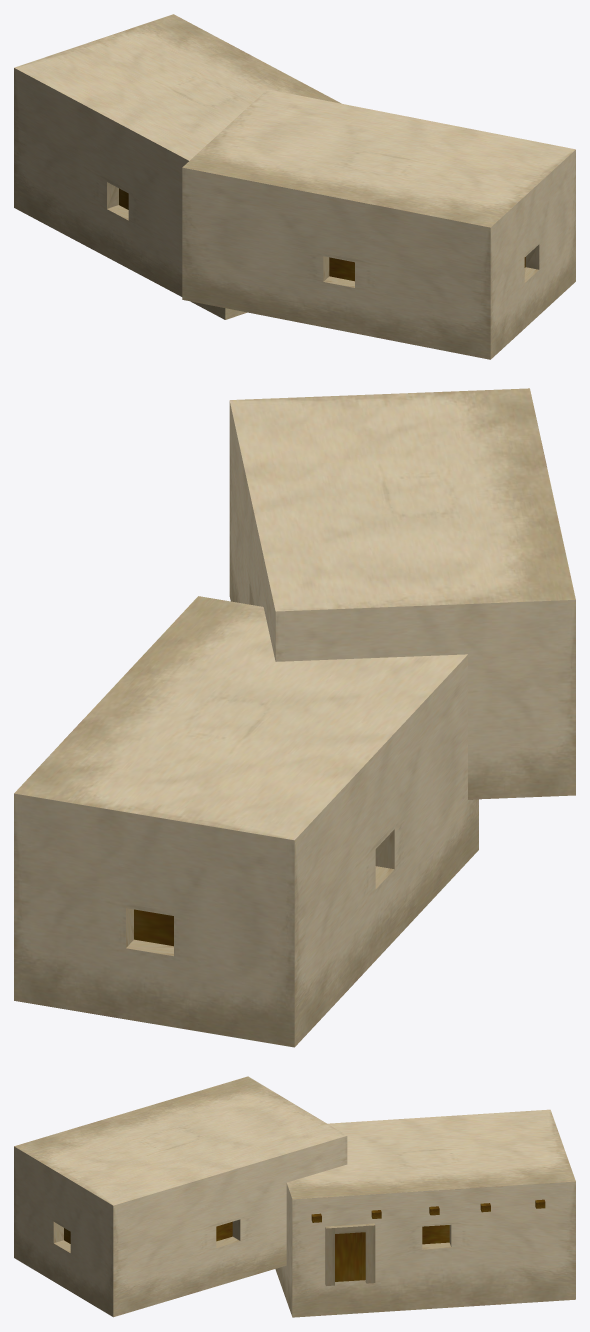
The model's file is building.obj.
3 views of the same model, one above another, from view 1: azimuth 30°, elevation 25°; view 2: azimuth 150°, elevation 25°; view 3: azimuth 270°, elevation 25° (orthographic). The views are drawn at different scales.
Visible parts, largest first — view 1: palm; view 2: palm; view 3: palm.
Part boxes in pixels (x1=…): palm: x1=14, y1=14, x2=575, y2=359; palm: x1=14, y1=388, x2=575, y2=1047; palm: x1=14, y1=1076, x2=575, y2=1317.
Bounding box in the file's own units: 29.15 × 15.45 × 53.54.
